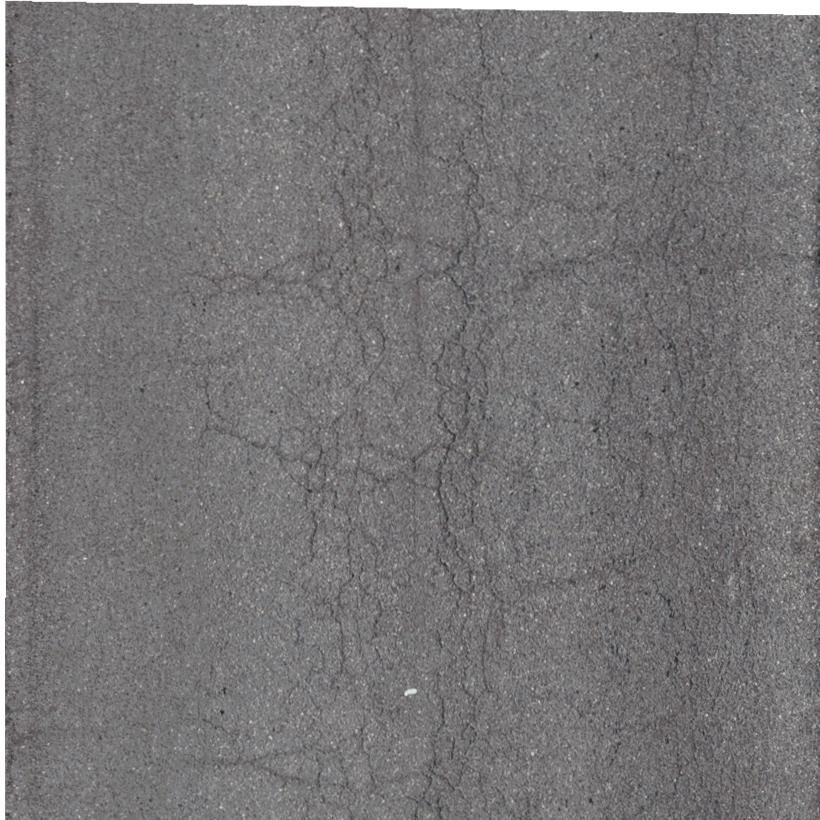GRIETA: (19, 540, 39, 819), (522, 556, 630, 595), (526, 250, 602, 288), (28, 291, 41, 452)
PIEL DE COCODRILO: (143, 12, 541, 819), (599, 16, 782, 819)
